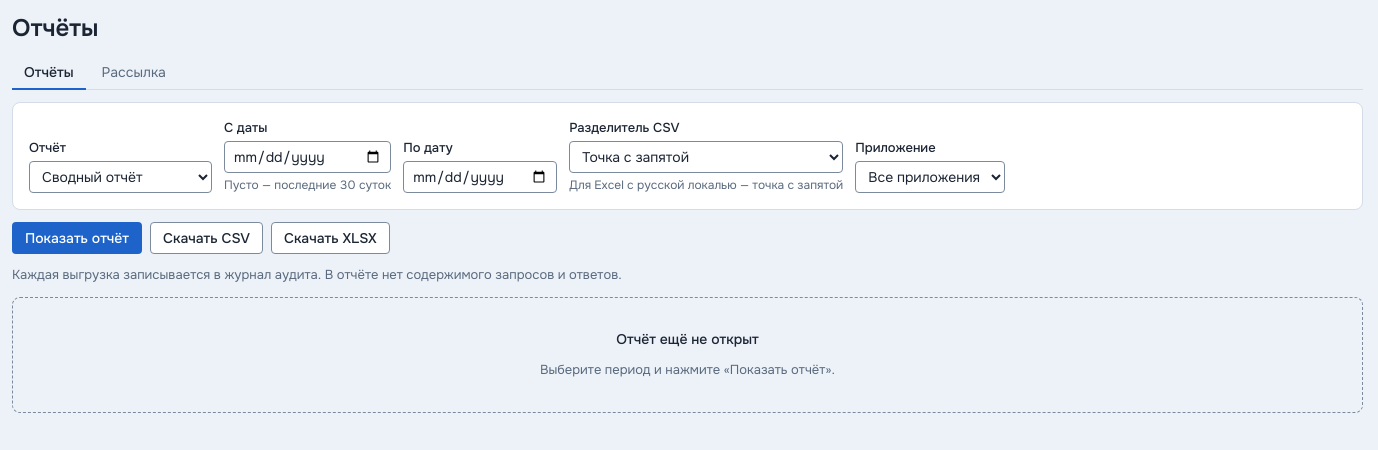
Test: экран «Отчёты» › начало позже конца блокирует показ и скачивание
The image size is (1378, 450).
Type "2026-10-09" into the date field labelled "С даты". click: (308, 157)
box: x1=224 y1=141 x2=391 y2=173
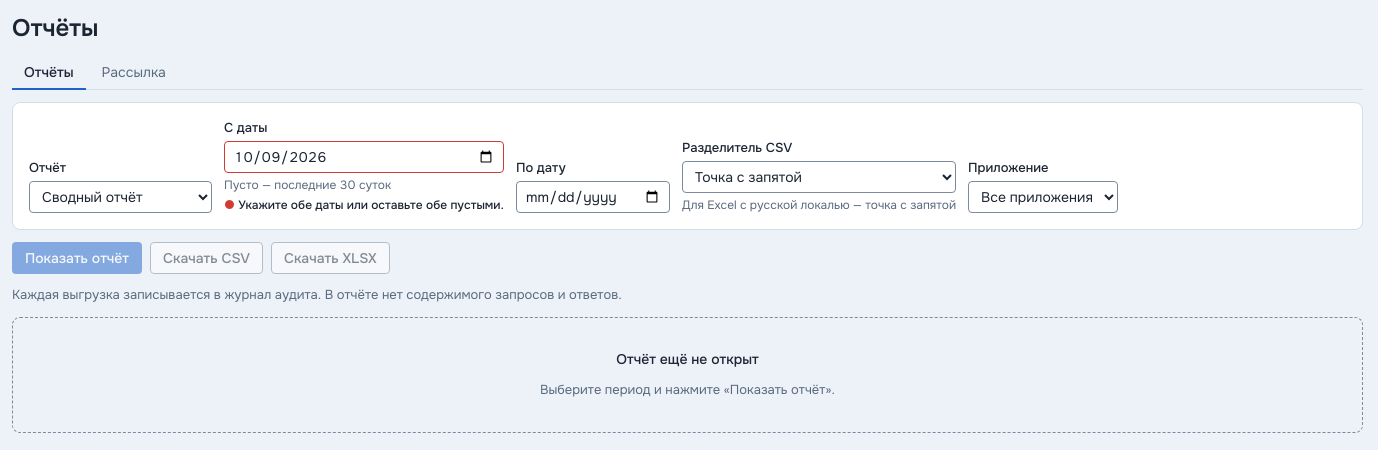
Type "2026-10-01" into the date field labelled "По дату". click: (593, 197)
box: x1=516 y1=181 x2=670 y2=213
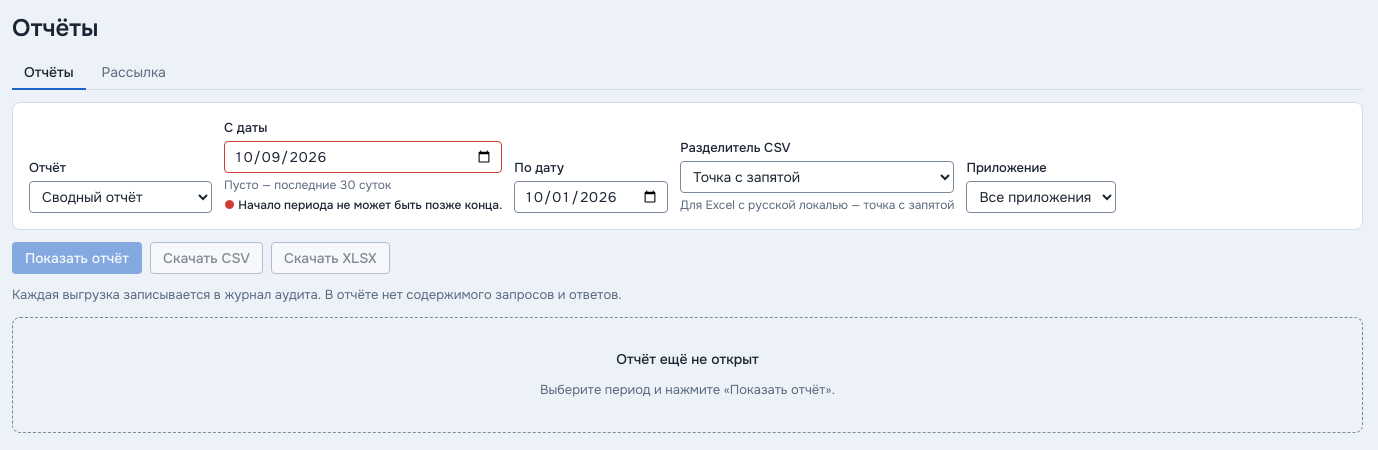
Check: the button "Показать отчёт" is disabled, box x1=12 y1=242 x2=142 y2=274
Check: the text "Начало периода не может быть позже конца." is shown, box x1=238 y1=197 x2=502 y2=213
